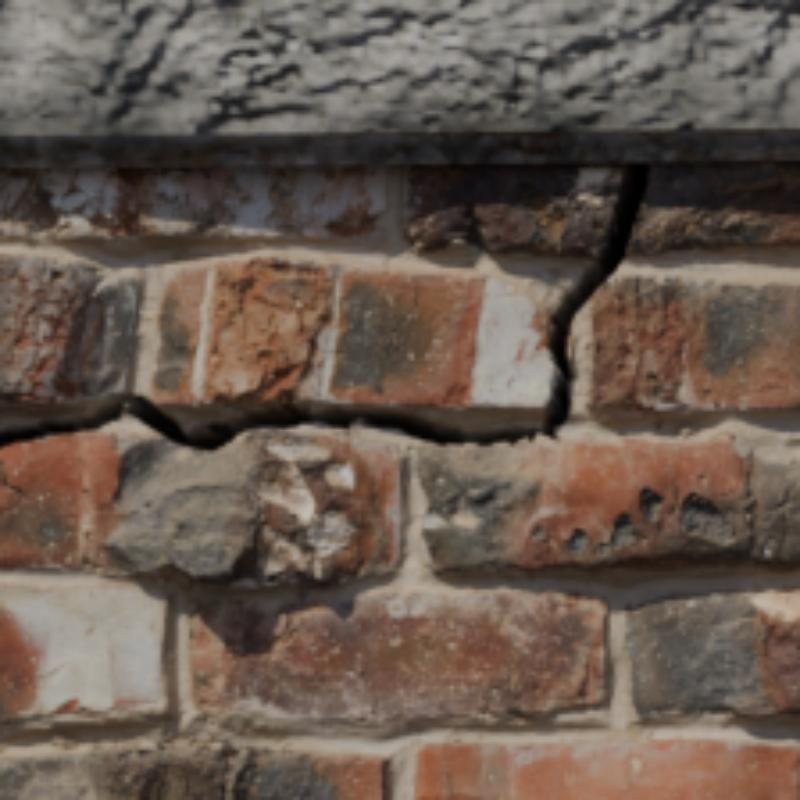crack: (2, 162, 649, 448)
